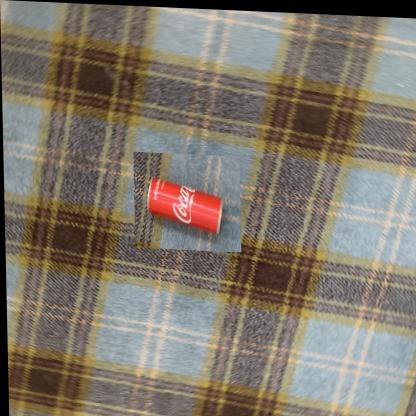trash: (147, 177, 221, 232)
